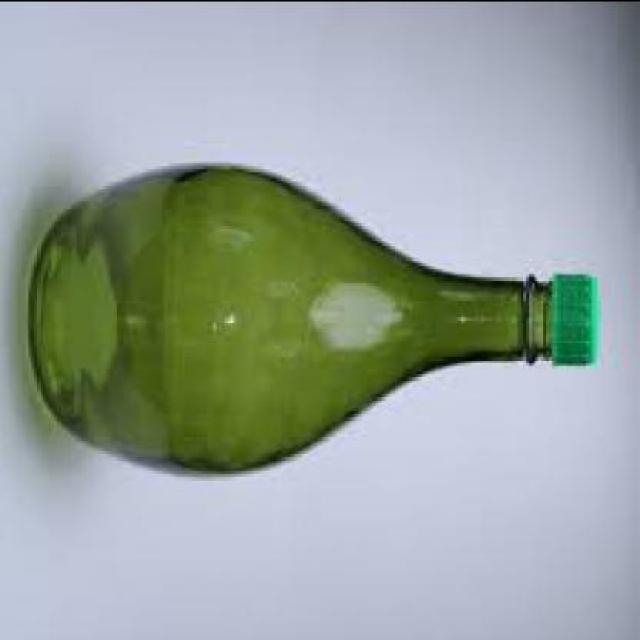GLASS: (31, 164, 552, 476)
PLASTIC: (552, 276, 600, 367)
